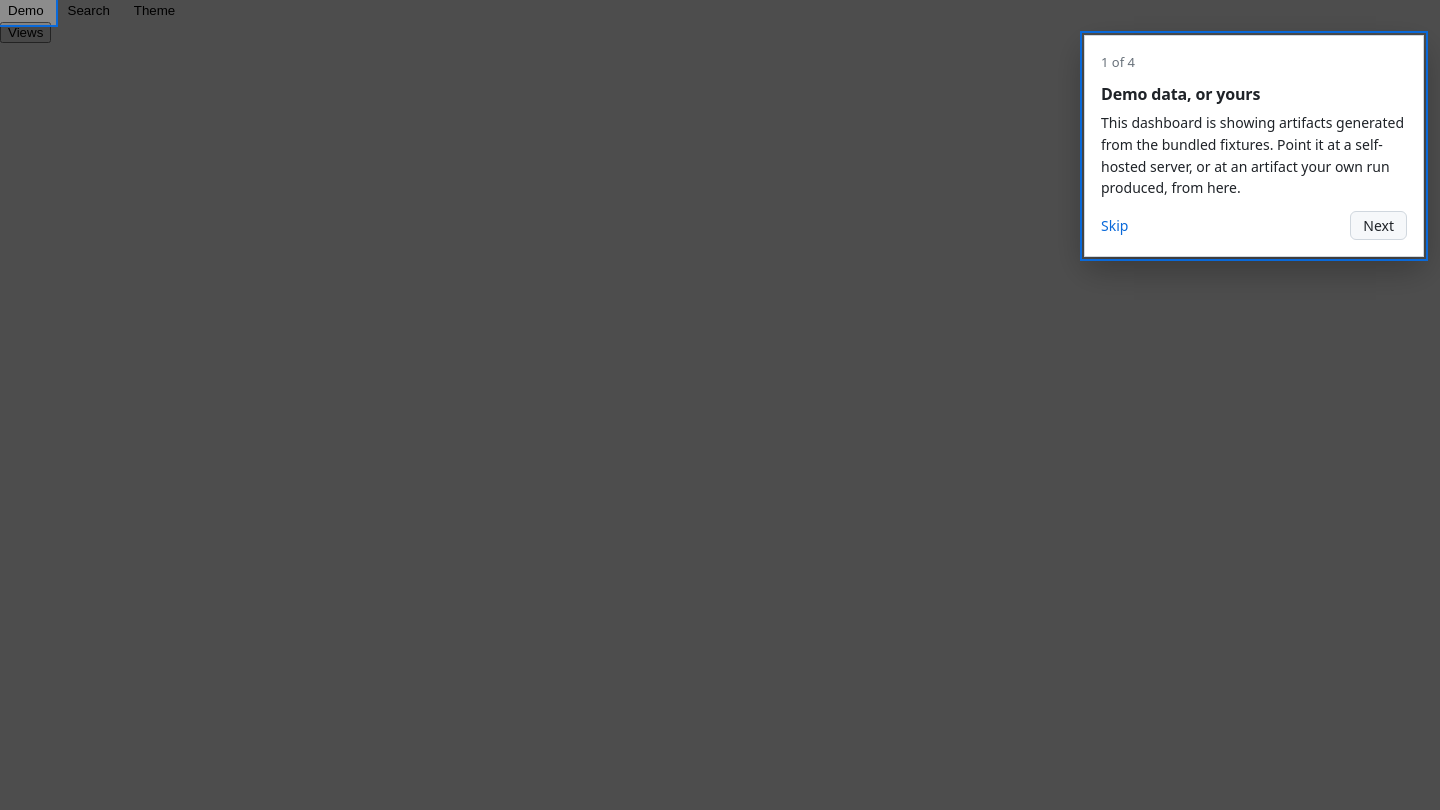
Test: storage that refuses › says so rather than reappearing silently every visit
Expected: the text "1 of 4" is shown, [1101, 53, 1135, 71]
Click the button "Skip" at point(1115, 225), box [1101, 214, 1128, 236]
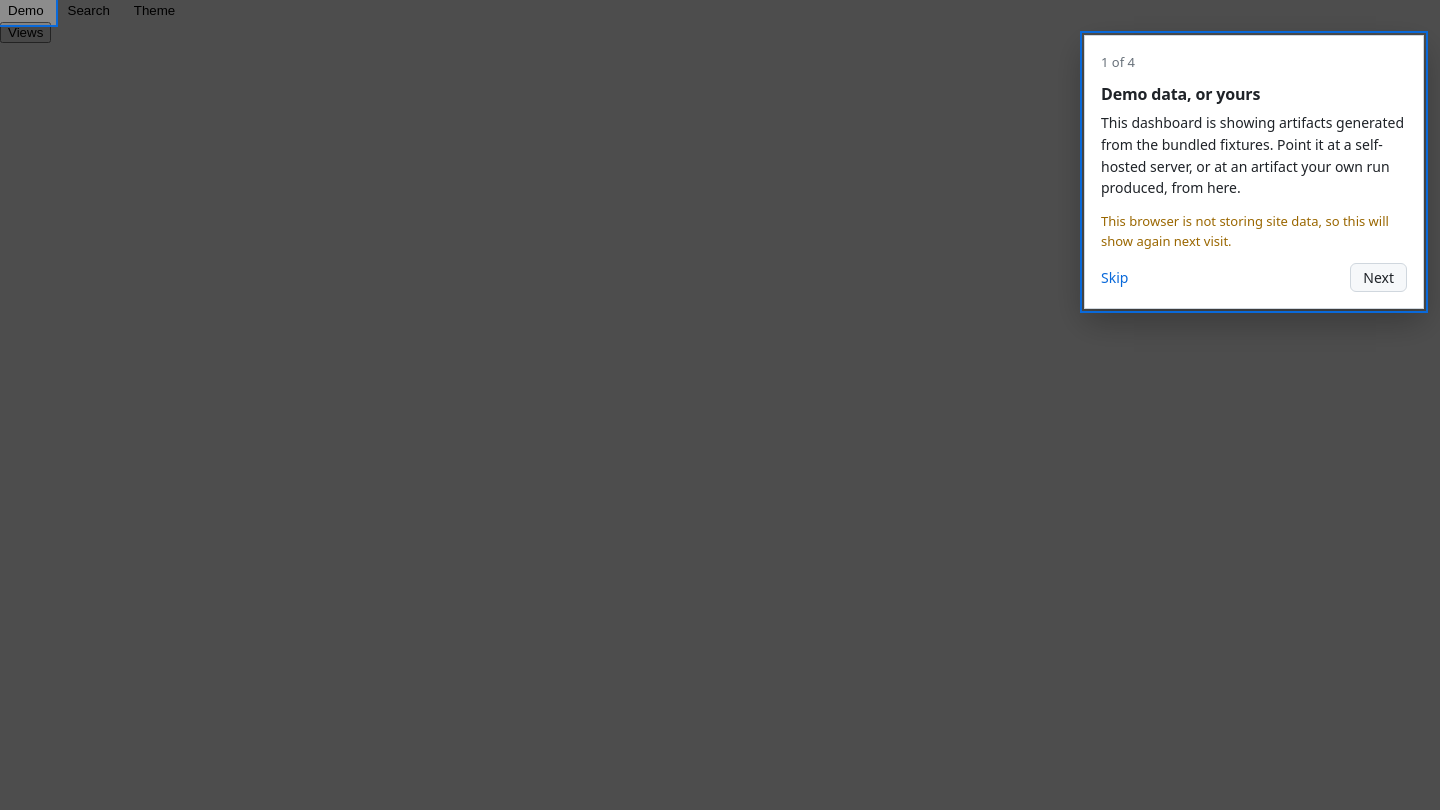
Expected: the message shows "will show again next visit", [1101, 212, 1389, 250]
